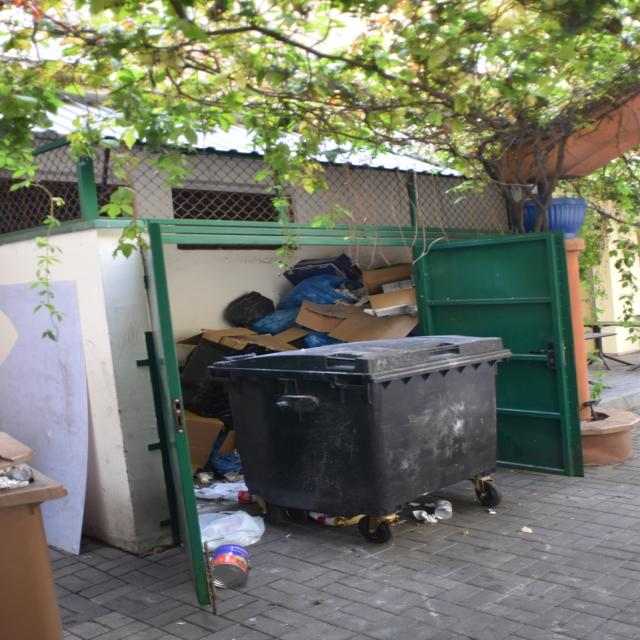lixo domiciliar: (197, 255, 436, 360), (163, 322, 256, 520), (188, 511, 274, 595), (309, 510, 405, 531), (411, 491, 464, 528), (0, 458, 35, 495)
